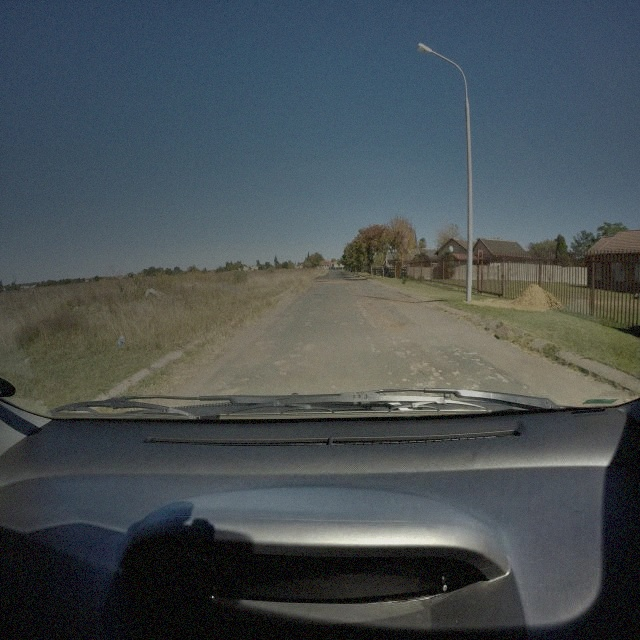pothole: (391, 324, 404, 331)
